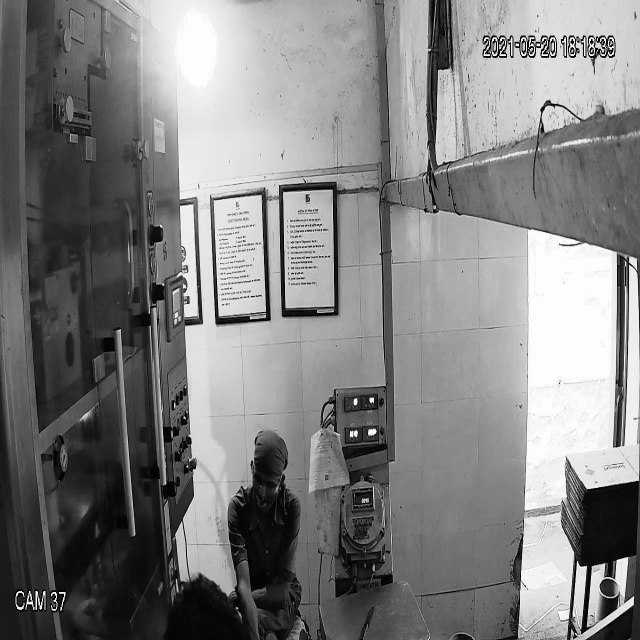Gafas: (249, 465, 285, 501)
